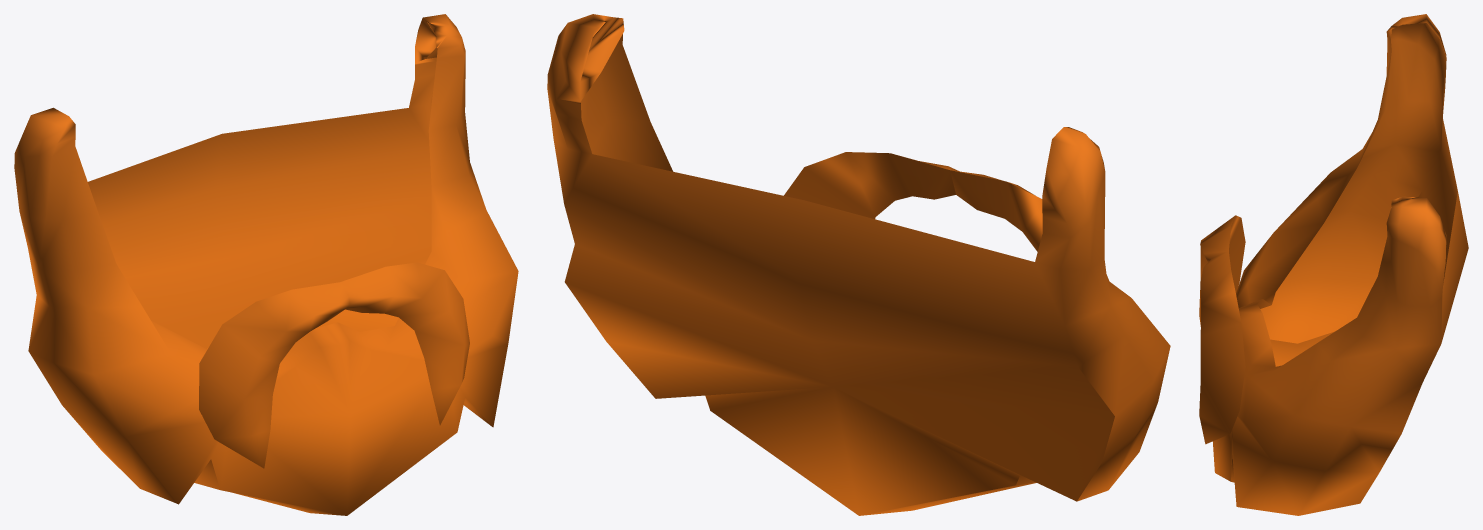
The model's file is Beard_Orange_13.fbx.
The picture shows the model from 3 angles, left to right: view 1: azimuth 30°, elevation 25°; view 2: azimuth 150°, elevation 25°; view 3: azimuth 270°, elevation 25°; orthographic projection. The views are drawn at different scales.
Visible parts, largest first — view 1: Beard_Orange_13; view 2: Beard_Orange_13; view 3: Beard_Orange_13.
Boxes of the visible parts, left/top/right/bottom form: Beard_Orange_13: left=14, top=14, right=518, bottom=515; Beard_Orange_13: left=547, top=14, right=1170, bottom=515; Beard_Orange_13: left=1199, top=14, right=1468, bottom=515.
Size of the model in its own units: 54.32 by 45.47 by 28.75.
